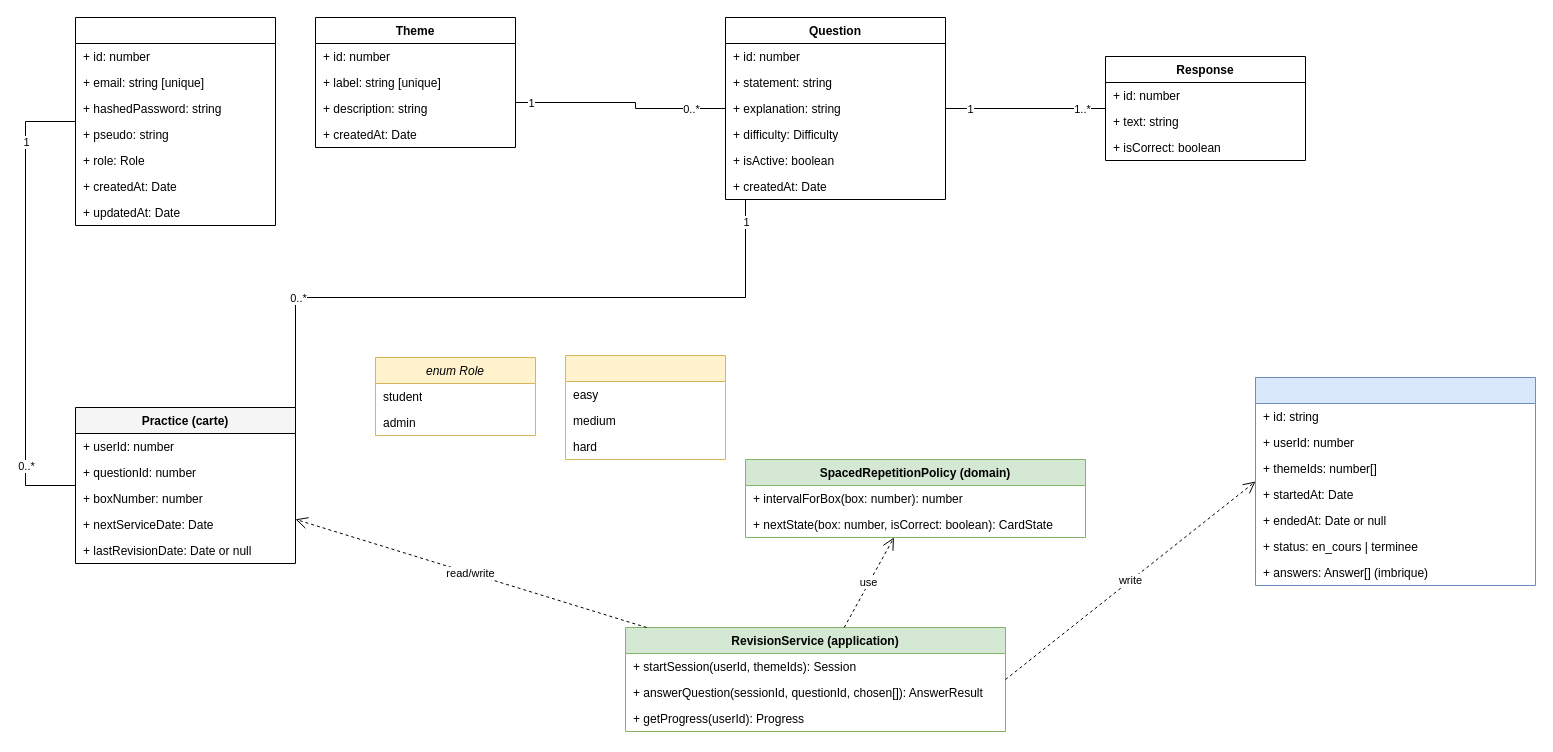
Some shapes in this 1553 by 752 pixel diagram are drawn without their labels. The shapes that lost their labels are listed below. From the top down, each one's box as (x1, y1, x2, y2) in pixels, then its label:
(74, 16, 276, 226): User
(564, 354, 726, 460): enum Difficulty
(1254, 376, 1536, 586): Session (document Mongo)
